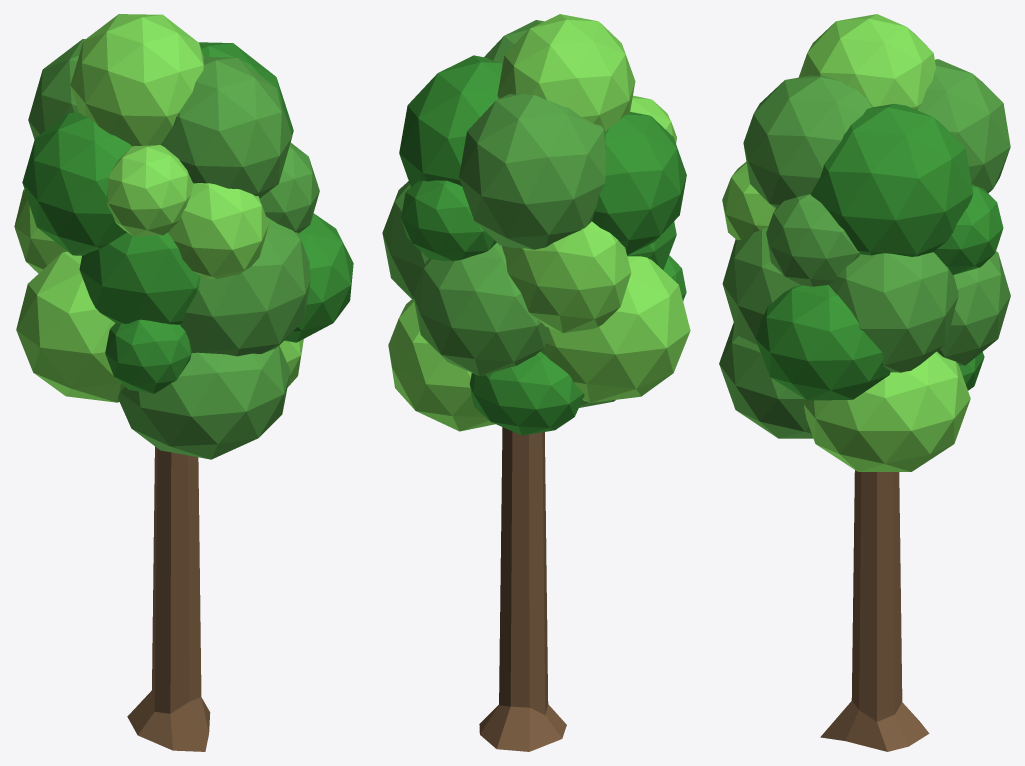
Rendered from arbol3.fbx.
The picture shows the model from 3 angles, left to right: view 1: azimuth 30°, elevation 25°; view 2: azimuth 150°, elevation 25°; view 3: azimuth 270°, elevation 25°; orthographic projection. The views are drawn at different scales.
Parts seen in each view (by area): view 1: Icosphere.002, Cylinder; view 2: Icosphere.002, Cylinder; view 3: Icosphere.002, Cylinder.
Boxes of the visible parts, box(x1,y1,x2,y2) form: Icosphere.002: box(14, 14, 353, 459); Cylinder: box(127, 446, 210, 751); Icosphere.002: box(382, 14, 690, 435); Cylinder: box(479, 427, 566, 751); Icosphere.002: box(719, 14, 1010, 471); Cylinder: box(820, 470, 929, 751).
Bounding box in the file's own units: 586 × 1386 × 523.
